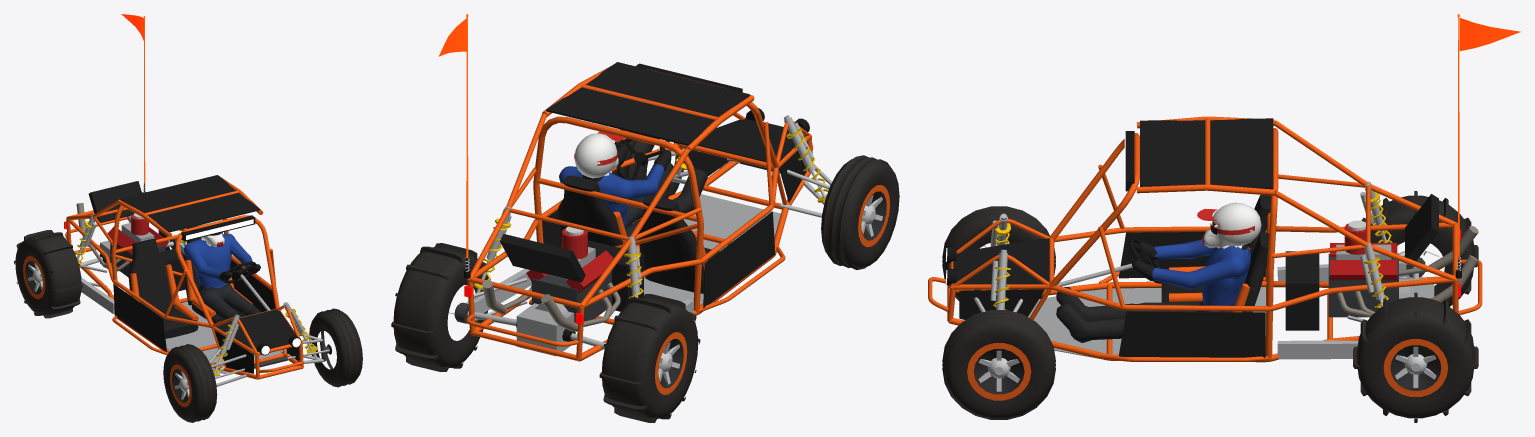
Rendered from ohv_sandrail.glb.
3 views of the same model, side by side, from view 1: azimuth 30°, elevation 25°; view 2: azimuth 150°, elevation 25°; view 3: azimuth 270°, elevation 25° (orthographic). The views are drawn at different scales.
Visible parts, largest first — view 1: body, wheel_RR, rider, wheel_FR, wheel_FL, whip; view 2: body, wheel_RR, wheel_RL, wheel_FR, rider, whip, wheel_FL; view 3: body, wheel_RL, wheel_FL, rider, wheel_RR, wheel_FR, whip.
Boxes of the visible parts, x1,y1,x2,y2 form: body: [64, 175, 329, 386]; wheel_RR: [14, 230, 82, 318]; rider: [184, 219, 261, 319]; wheel_FR: [163, 344, 217, 422]; wheel_FL: [309, 308, 362, 387]; whip: [121, 14, 146, 193]; body: [455, 62, 832, 361]; wheel_RR: [599, 294, 700, 422]; wheel_RL: [391, 243, 488, 371]; wheel_FR: [821, 155, 899, 269]; rider: [559, 131, 707, 240]; whip: [438, 14, 470, 278]; wheel_FL: [612, 129, 683, 199]; body: [928, 116, 1482, 362]; wheel_RL: [1353, 292, 1478, 422]; wheel_FL: [942, 310, 1055, 419]; rider: [1056, 202, 1261, 342]; wheel_RR: [1361, 191, 1478, 306]; wheel_FR: [942, 206, 1055, 300]; whip: [1455, 14, 1520, 278].
Bounding box in the file's own units: 1.91 × 2.72 × 3.87.
